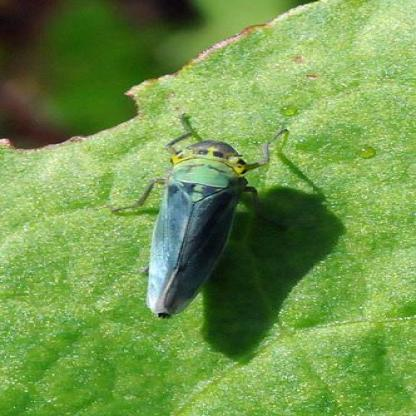Green-Leafhopper: (107, 112, 292, 321)
